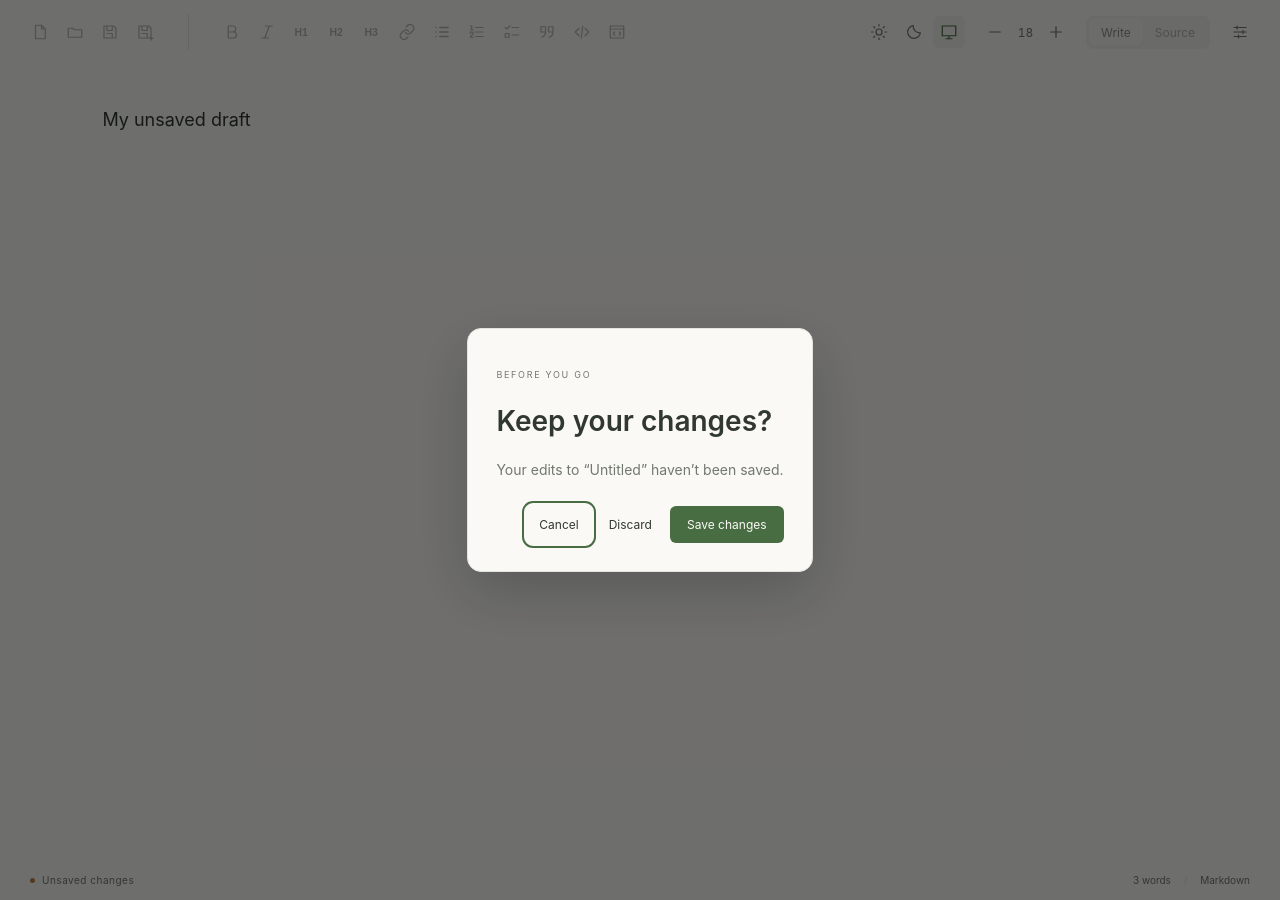
Test: native external file open › asks to save unsaved work before loading a file opened from outside, and Cancel preserves the draft
Check: the footer shows "Unsaved changes", box [42,874,134,886]
Check: the dialog is shown, box [467,328,813,572]
Click the button "Cancel". click: (559, 524)
box: [527,506,591,543]
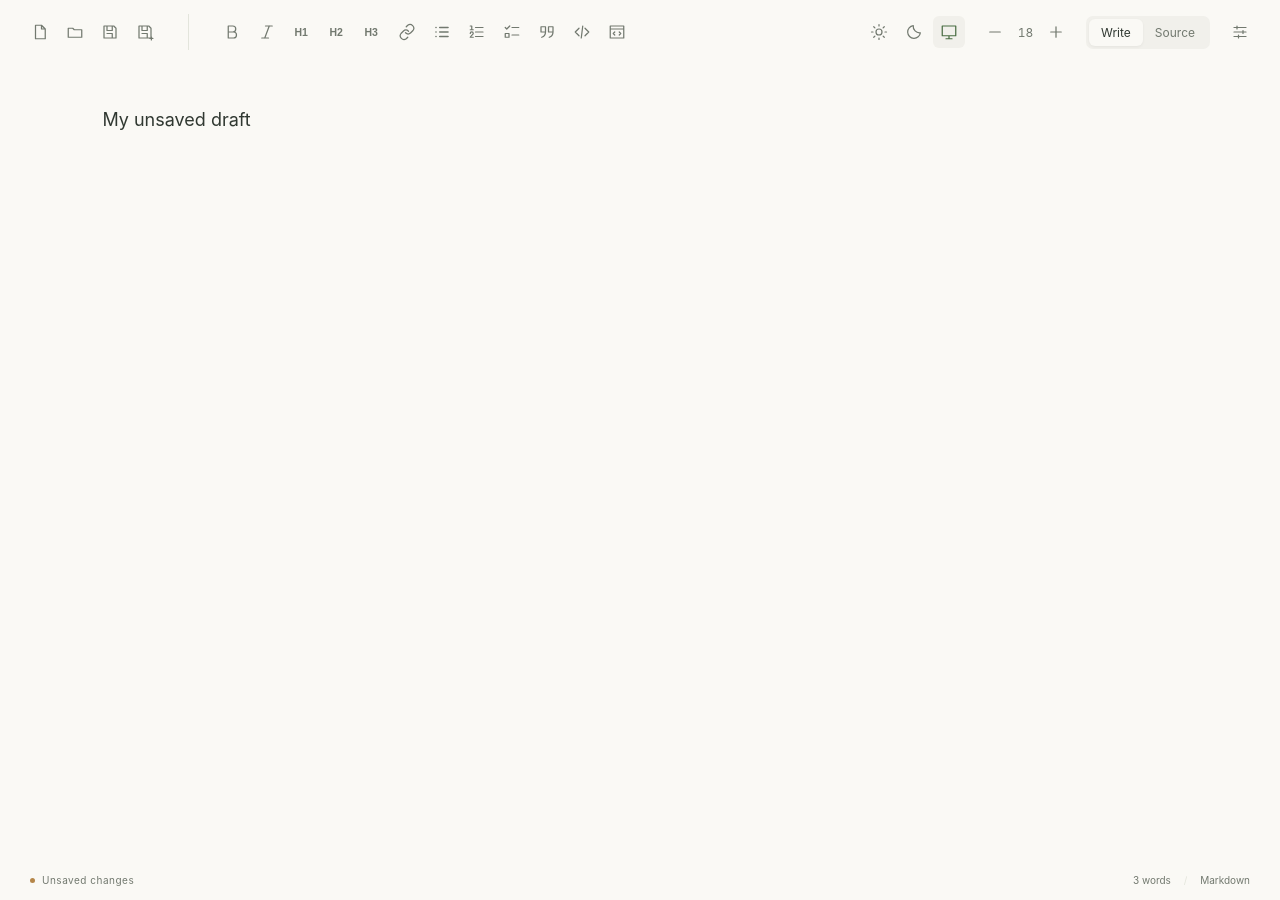
Check: the text box labelled "My unsaved draft" is shown, box [102,109,251,130]
Check: the dialog is gone
